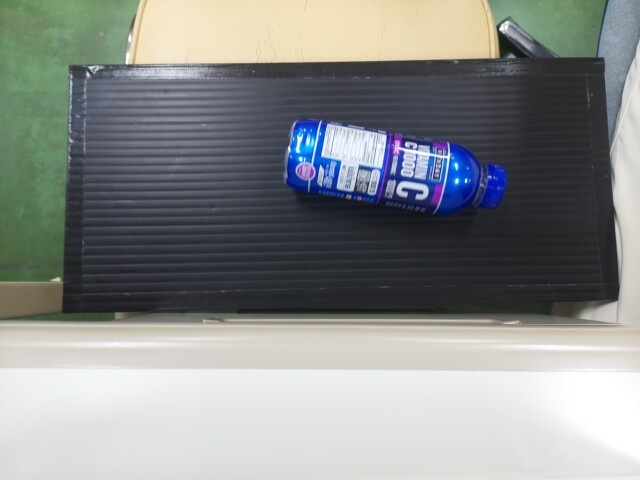plastic_bottle: (283, 110, 501, 215)
